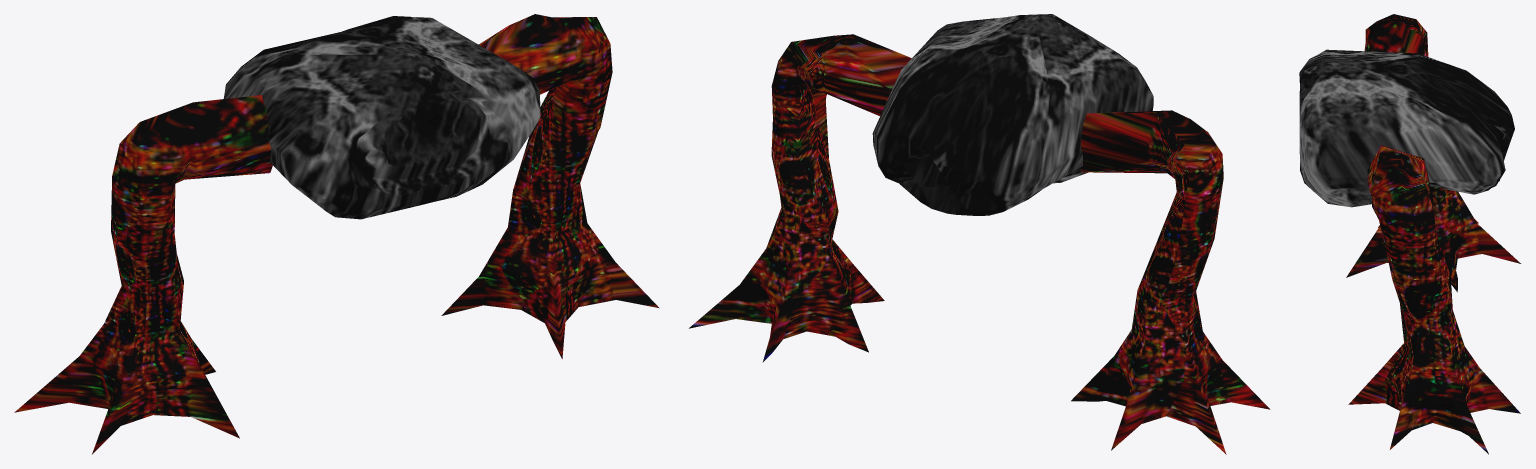
File: homunculimb.glb
3 renders of one model, left to right at view 1: azimuth 30°, elevation 25°; view 2: azimuth 150°, elevation 25°; view 3: azimuth 270°, elevation 25°, orthographic. The views are drawn at different scales.
Parts seen in each view (by area): view 1: Cylinder.003, Cylinder.001; view 2: Cylinder.003, Cylinder.001; view 3: Cylinder.003, Cylinder.001.
Part boxes in pixels (<box>): Cylinder.003: <box>14,14,659,454</box>; Cylinder.001: <box>223,16,540,219</box>; Cylinder.003: <box>689,34,1270,454</box>; Cylinder.001: <box>872,14,1153,215</box>; Cylinder.003: <box>1346,14,1520,454</box>; Cylinder.001: <box>1299,49,1514,207</box>.
Size of the model in its own units: 6.65 by 3.74 by 2.69.
2 materials, 2 textured.
